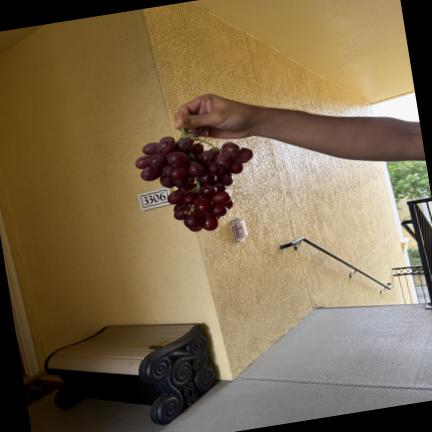grape_cluster: (136, 137, 253, 232)
